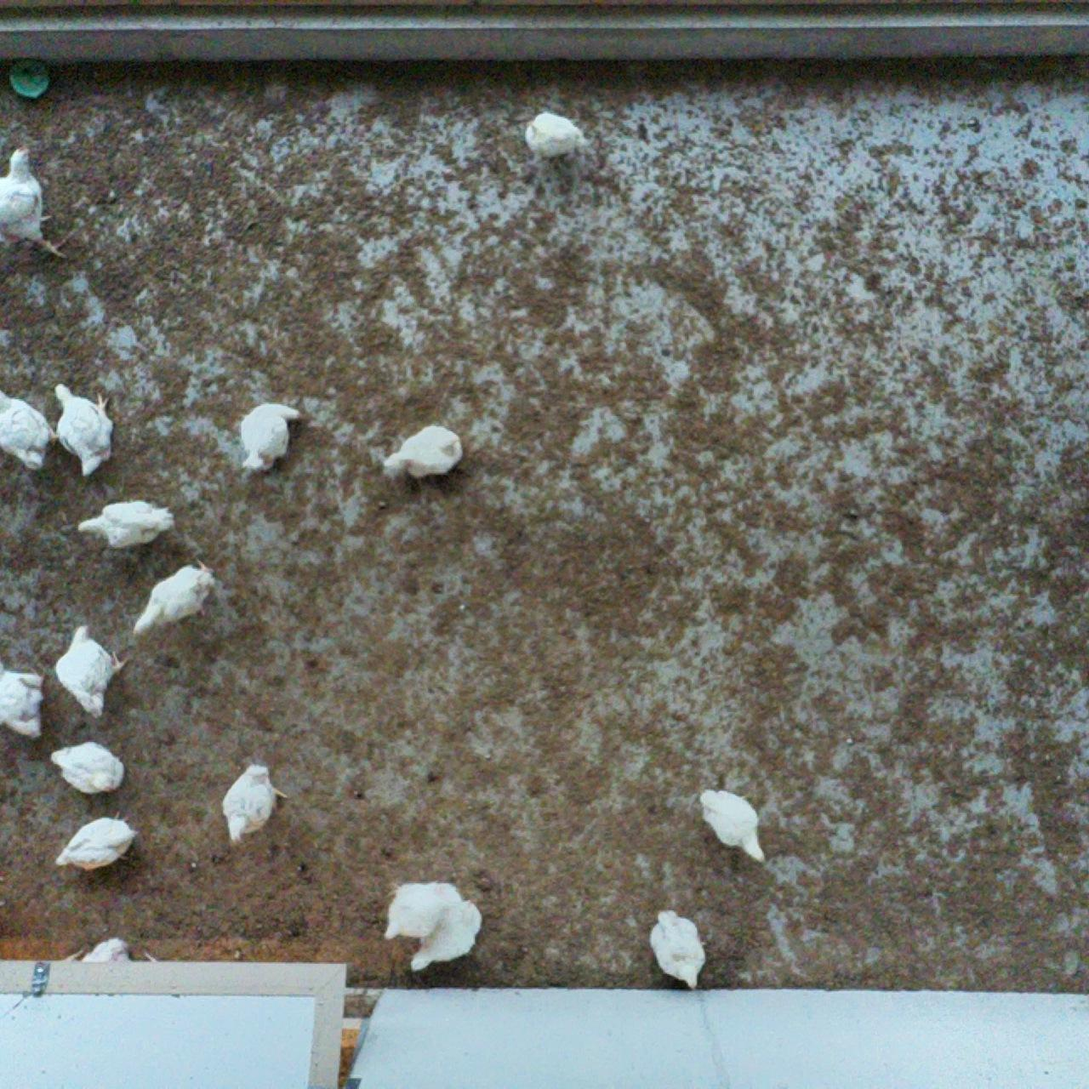chicken: (0, 140, 77, 264), (54, 620, 131, 723), (128, 557, 220, 641), (406, 893, 488, 977), (694, 783, 773, 869), (51, 805, 144, 878), (219, 758, 290, 850), (380, 874, 467, 948), (74, 495, 180, 554), (53, 382, 117, 478), (641, 905, 709, 995), (236, 399, 305, 484), (0, 385, 64, 476), (381, 420, 464, 486), (47, 737, 127, 798), (520, 105, 592, 170), (0, 659, 48, 745), (79, 933, 138, 964)
